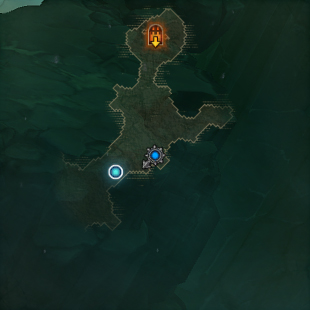Exit: (147, 23, 165, 48)
